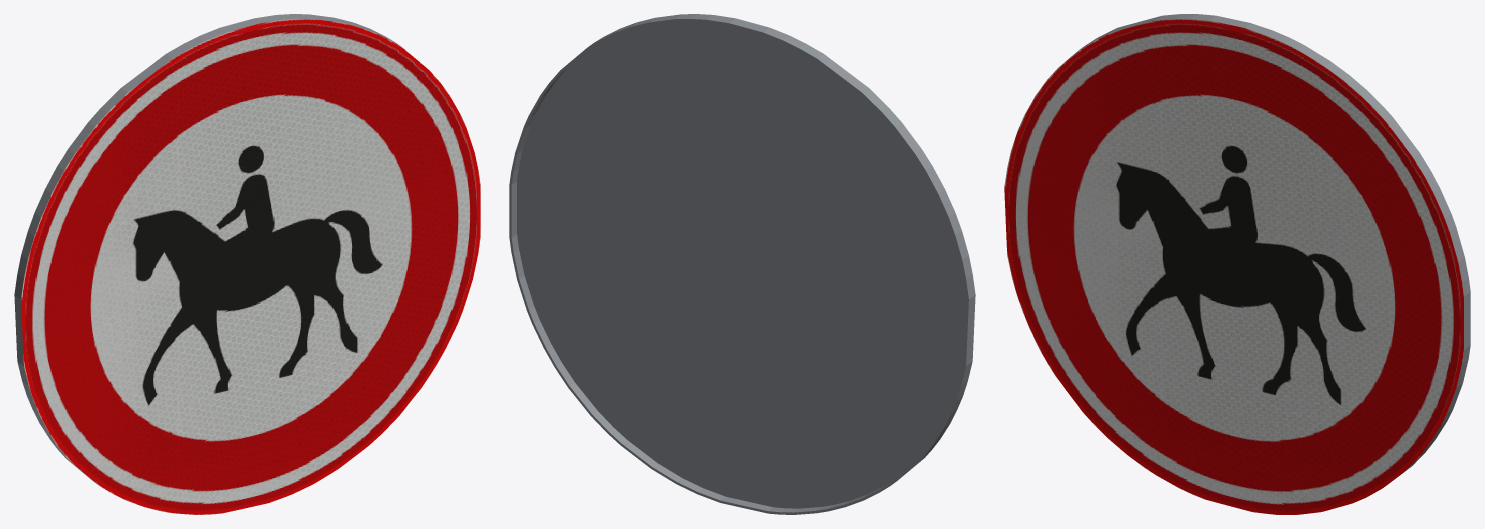
3 views of the same model, side by side, from view 1: azimuth 30°, elevation 25°; view 2: azimuth 150°, elevation 25°; view 3: azimuth 330°, elevation 25° (orthographic).
Parts seen in each view (by area): view 1: cat_9bea90b7d8101172; view 2: cat_9bea90b7d8101172; view 3: cat_9bea90b7d8101172.
Boxes of the visible parts, bbox=[...] form: cat_9bea90b7d8101172: bbox=[14, 14, 480, 514]; cat_9bea90b7d8101172: bbox=[509, 14, 975, 514]; cat_9bea90b7d8101172: bbox=[1004, 14, 1470, 514].
Size of the model in its own units: 0.5988 by 0.015 by 0.6.
Materials: 2 (1 with a texture image).
